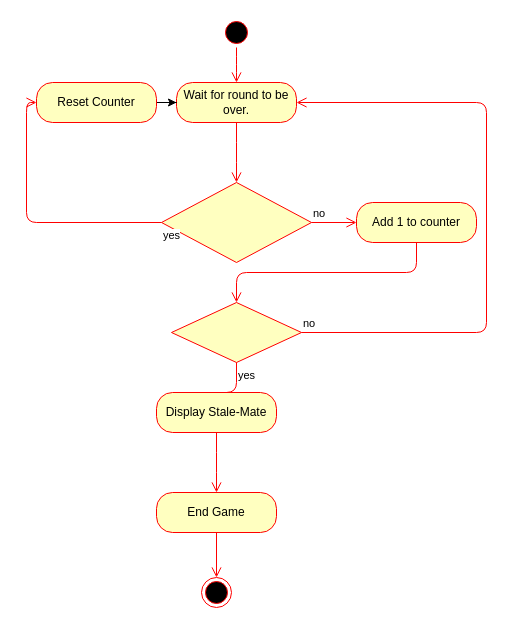
The diagram is 514 pixels wide and 625 high, and some of its shapes have lost their labels. The shapes that lost their labels are listed below. From the top down, each one's box as (x1, y1, x2, y2) in pixels, then its label:
(160, 182, 312, 262): Did any robot see an enemy robot at any point during the round?
(170, 302, 302, 362): Is counter 10?
